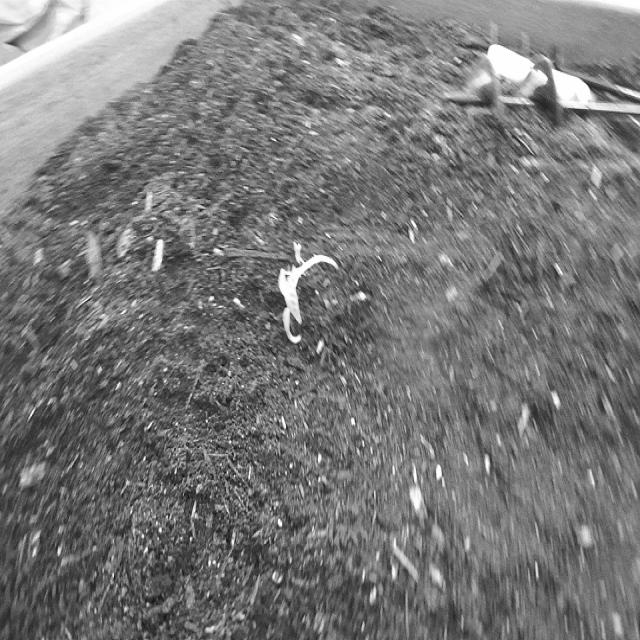Healthy: (275, 229, 344, 348)
